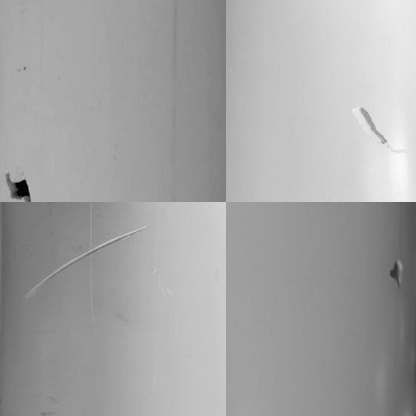kongdong: (5, 169, 33, 201), (384, 257, 405, 285)
sunshang: (26, 226, 152, 297), (349, 105, 390, 149)
